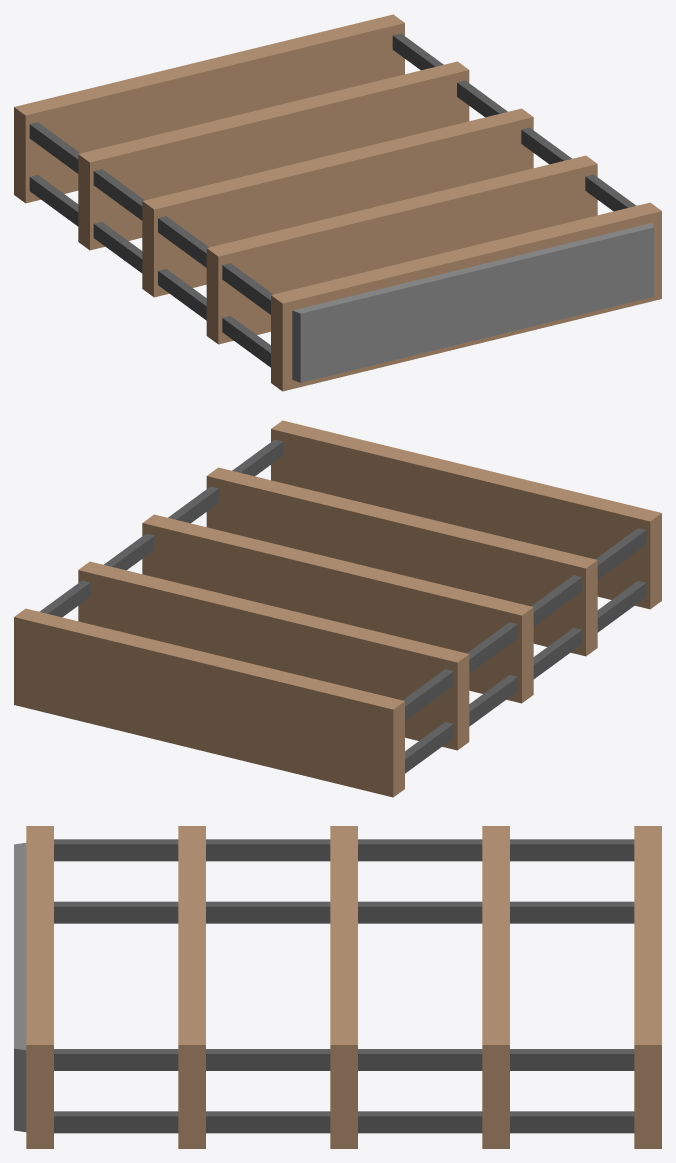
The model's file is Modern_Shelves.glb.
3 views of the same model, one above another, from view 1: azimuth 30°, elevation 25°; view 2: azimuth 150°, elevation 25°; view 3: azimuth 270°, elevation 25° (orthographic). The views are drawn at different scales.
Parts seen in each view (by area): view 1: Modern Shelves; view 2: Modern Shelves; view 3: Modern Shelves.
Boxes of the visible parts, bbox=[...] form: Modern Shelves: bbox=[14, 14, 661, 391]; Modern Shelves: bbox=[14, 420, 661, 797]; Modern Shelves: bbox=[14, 826, 661, 1148].
Size of the model in its own units: 1.24 by 0.2757 by 1.56.
Materials: 1 (1 with a texture image).
